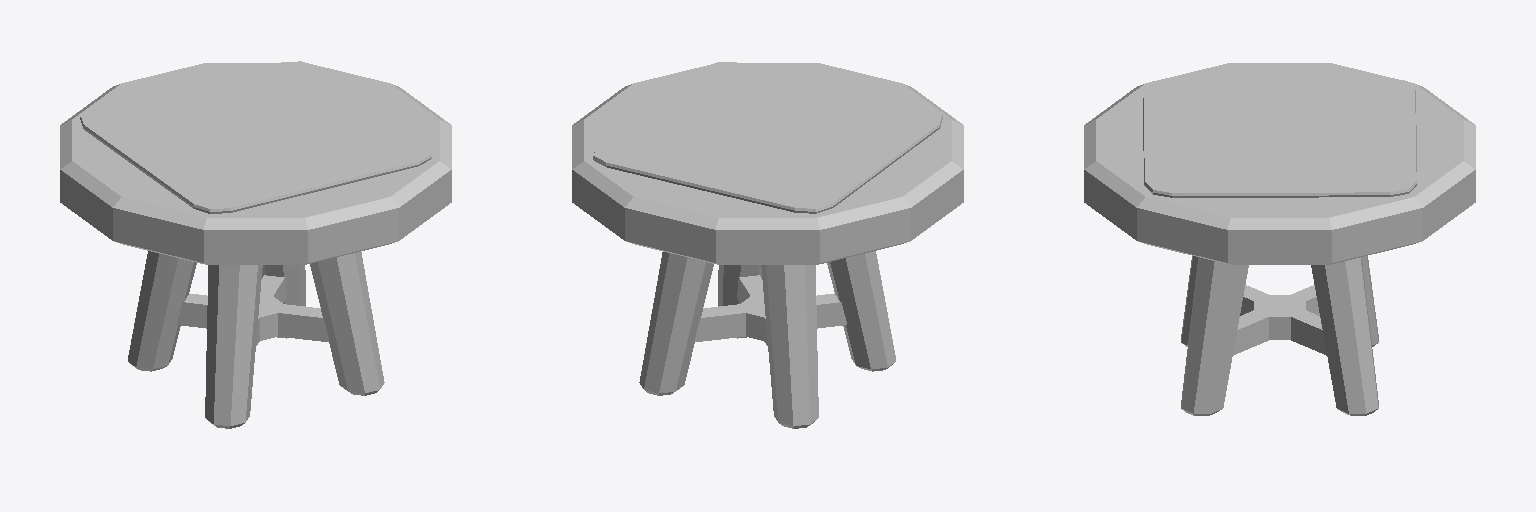
File: table_round_C.obj
3 renders of one model, left to right at view 1: azimuth 30°, elevation 25°; view 2: azimuth 150°, elevation 25°; view 3: azimuth 270°, elevation 25°, orthographic.
Parts seen in each view (by area): view 1: table_round_C; view 2: table_round_C; view 3: table_round_C.
Part boxes in pixels (x1,y1,x2,y2): table_round_C: (60, 61, 451, 428); table_round_C: (572, 62, 963, 428); table_round_C: (1084, 63, 1475, 415).
Bounding box in the file's own units: 1.5 × 1.02 × 1.5.